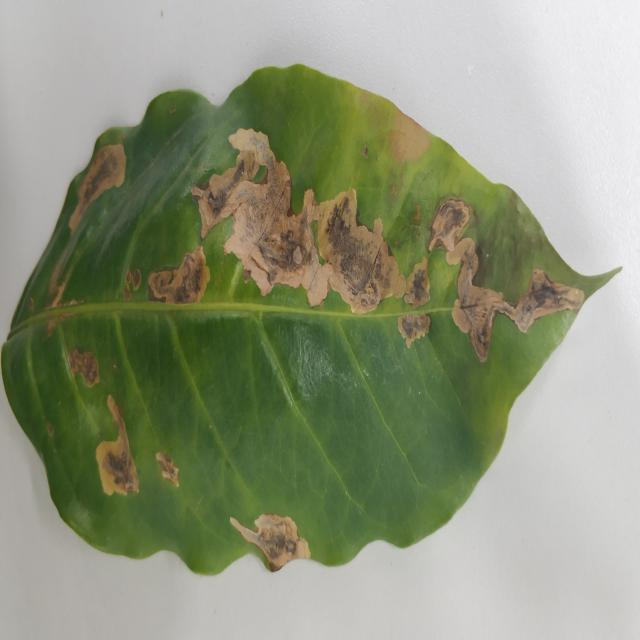Plaga-Minador: (0, 65, 620, 579)
